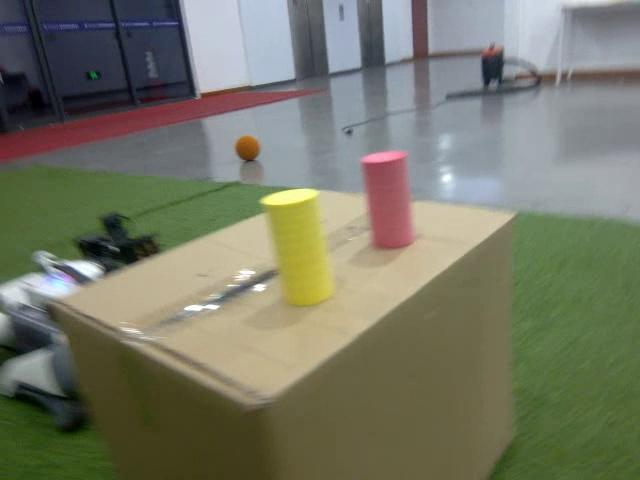orange_ball: (232, 135, 261, 164)
red_cylinder: (357, 146, 419, 252)
yellow_cylinder: (258, 188, 336, 312)
